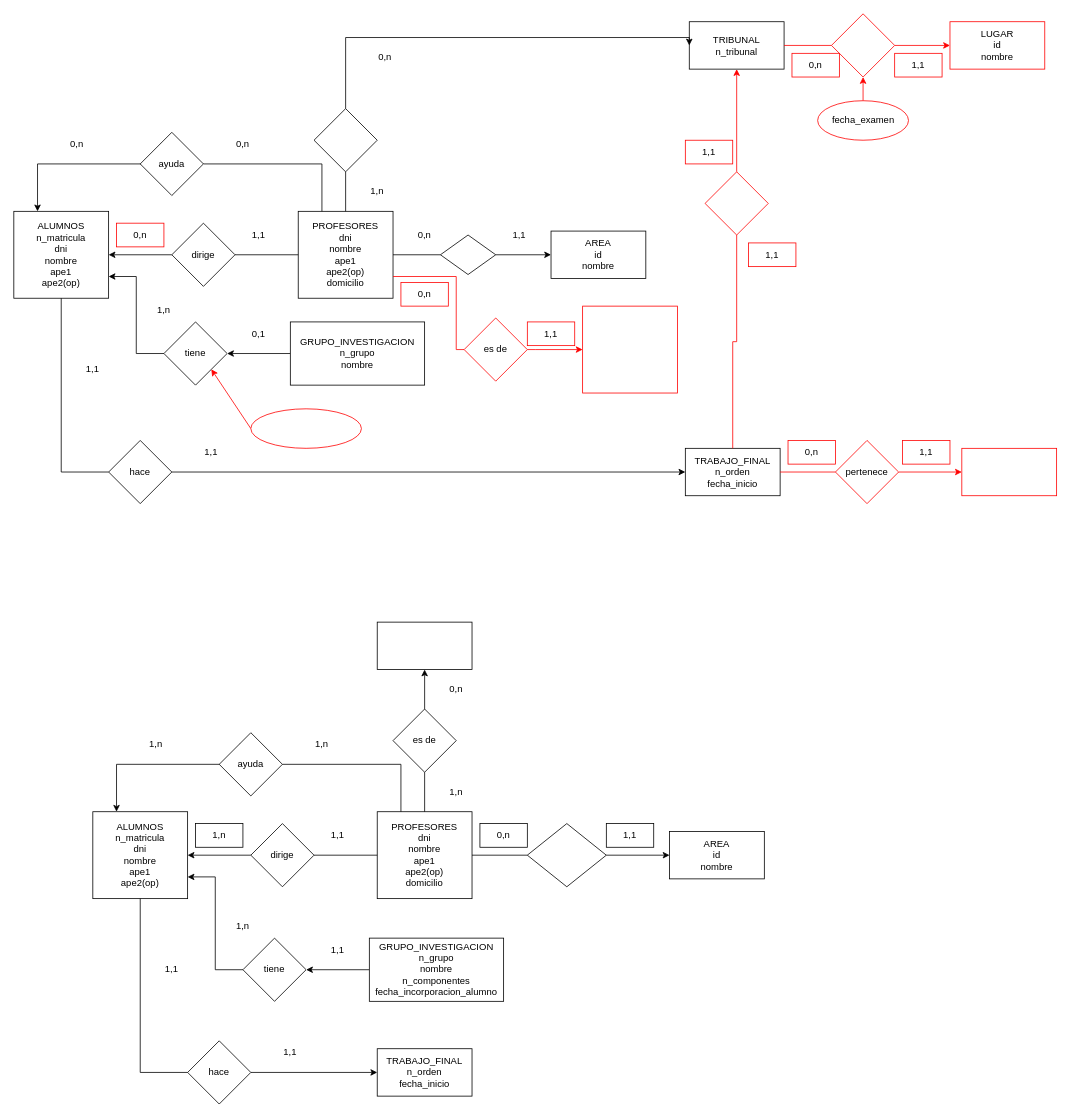
The diagram is 1070 pixels wide and 1118 high, and some of its shapes have lost their labels. The shapes that lost their labels are listed below. From the top down, each one's box as (x1, y1, x2, y2) in pixels, then its label:
(831, 13, 895, 77): en
(313, 108, 377, 172): formado
(704, 171, 768, 235): presenta
(440, 234, 496, 275): es
(582, 305, 677, 393): CIUDAD id nombre
(250, 408, 361, 448): fecha_incorporacion
(961, 448, 1057, 496): TEMA id nombre
(376, 621, 472, 670): TRIBUNAL n_tribunal lugar_examen n_componentes
(527, 823, 606, 887): pertenecen
